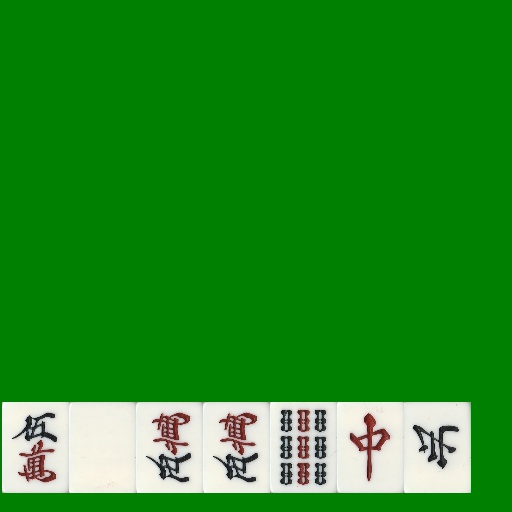5m: (2, 402, 69, 493), (136, 402, 203, 493), (203, 402, 270, 493)
9s: (270, 402, 337, 493)
north: (404, 402, 471, 493)
tyun: (337, 402, 404, 493)
white: (69, 402, 136, 493)
